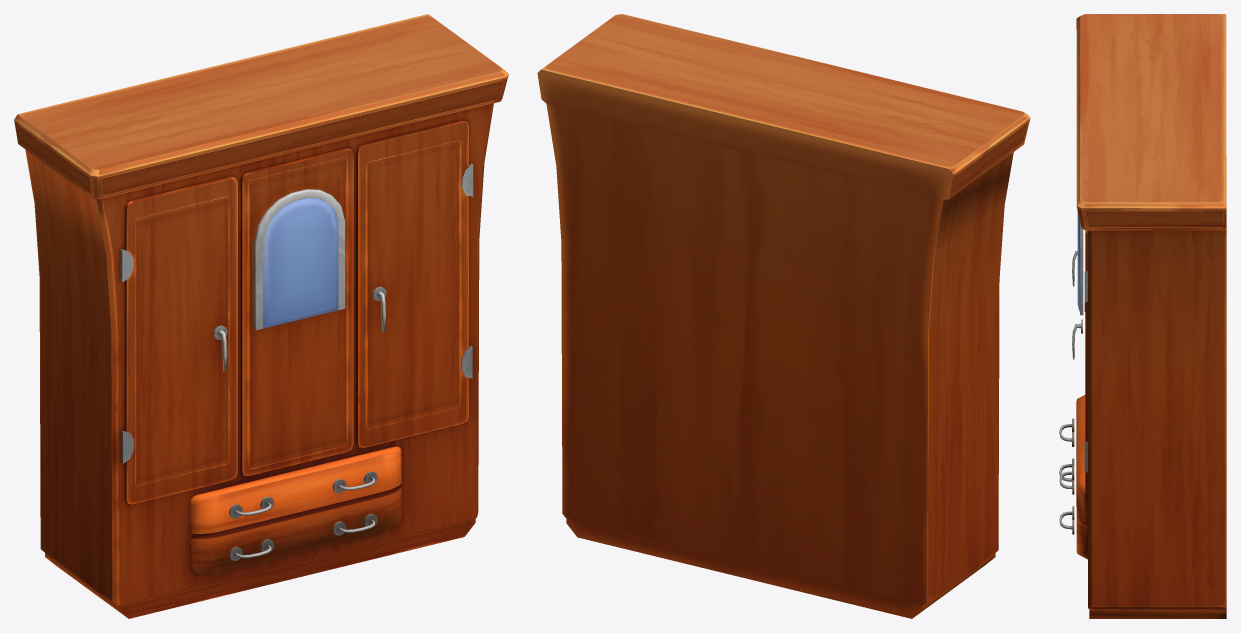
Rendered from Wardrobe01.FBX.
3 views of the same model, side by side, from view 1: azimuth 30°, elevation 25°; view 2: azimuth 150°, elevation 25°; view 3: azimuth 270°, elevation 25° (orthographic). The views are drawn at different scales.
Visible parts, largest first — view 1: Wardrobe01; view 2: Wardrobe01; view 3: Wardrobe01.
Boxes of the visible parts, x1,y1,x2,y2 form: Wardrobe01: [14, 14, 508, 618]; Wardrobe01: [537, 14, 1030, 618]; Wardrobe01: [1059, 14, 1226, 618].
Size of what is drawn, in the model's own units: 2.16 by 2.28 by 0.7966.
